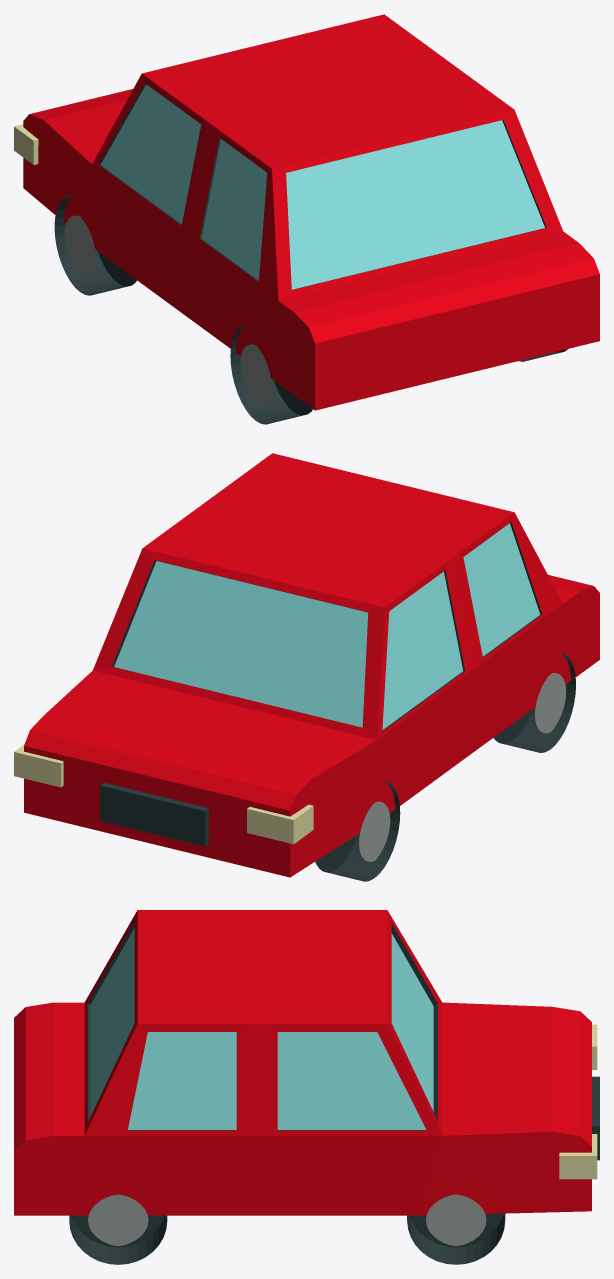
File: red car.fbx
The picture shows the model from 3 angles, top to bottom: view 1: azimuth 30°, elevation 25°; view 2: azimuth 150°, elevation 25°; view 3: azimuth 270°, elevation 25°; orthographic projection. The views are drawn at different scales.
Parts seen in each view (by area): view 1: Cube; view 2: Cube; view 3: Cube.
Boxes of the visible parts, x1,y1,x2,y2 form: Cube: (14, 14, 599, 424); Cube: (14, 453, 599, 881); Cube: (14, 910, 599, 1264).
Bounding box in the file's own units: 207 × 160 × 371.
